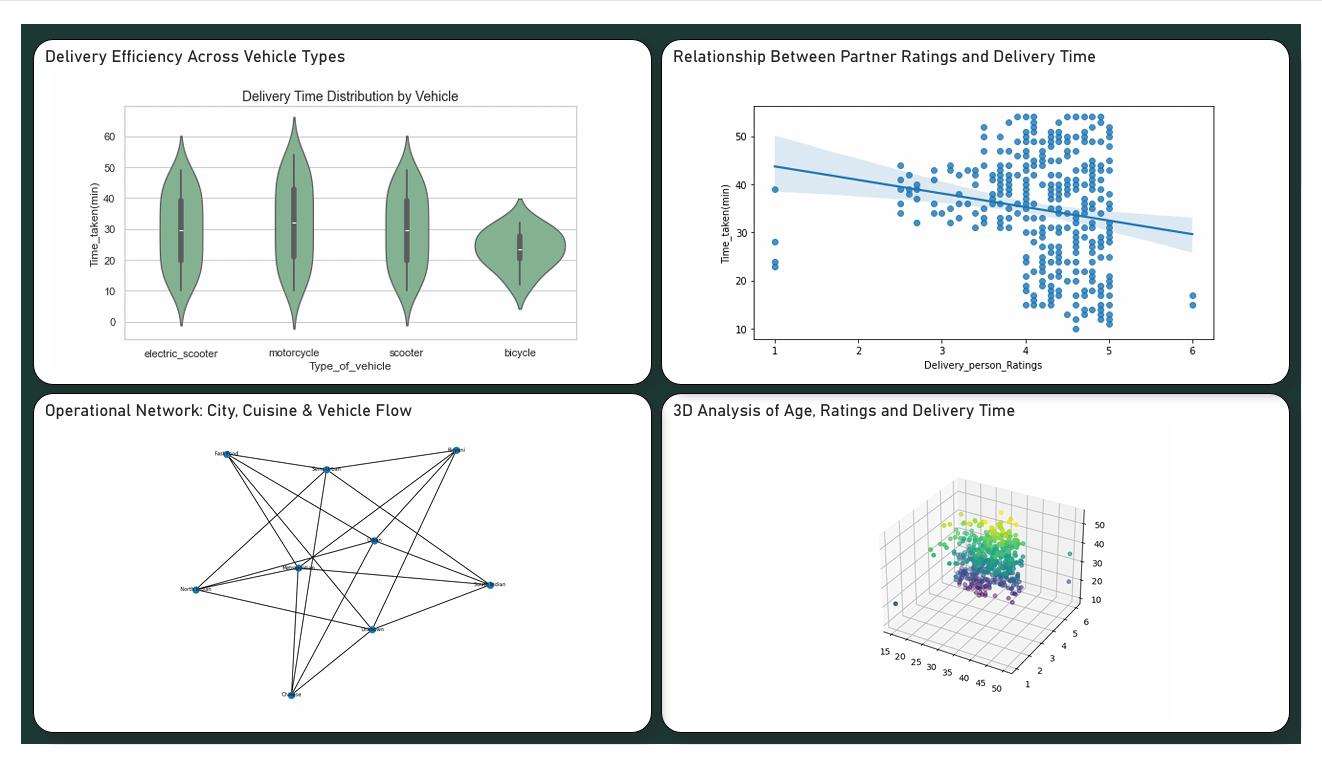

The page's visual inventory and layout, read from the dashboard file:
{"tool":"powerbi","page":{"name":"Advanced Analytics & Modeling","canvas":[1280,720],"ordinal":5},"visuals":[{"type":"pythonVisual","title":"Delivery Efficiency Across Vehicle Types","fields":{"Values":["orders.Time_taken(min)","orders.Type_of_vehicle"]},"box":[11,13.7,618.9,345.8],"z":0},{"type":"pythonVisual","title":"3D Analysis of Age, Ratings and Delivery Time","fields":{"Values":["orders.Delivery_person_Age","orders.Delivery_person_Ratings","orders.Time_taken(min)"]},"box":[639.5,367.8,628.5,340.3],"z":1000},{"type":"pythonVisual","title":"Relationship Between Partner Ratings and Delivery Time","fields":{"Values":["orders.Delivery_person_Ratings","orders.Time_taken(min)"]},"box":[639.5,13.7,628.5,345.8],"z":2000},{"type":"pythonVisual","title":"Operational Network: City, Cuisine & Vehicle Flow","fields":{"Values":["orders.City","orders.Cuisine_Type","orders.Type_of_vehicle"]},"box":[11,367.8,618.9,340.3],"z":3000}]}

Visuals, with their boxes on the page's 1280x720 design canvas (x1, y1, x2, y2). These are canvas units, not pixel positions in the 1322x769 screenshot, which may show the page scaled, cropped or inside an application window:
"Delivery Efficiency Across Vehicle Types" pythonVisual: bbox=(11, 14, 630, 360)
"3D Analysis of Age, Ratings and Delivery Time" pythonVisual: bbox=(640, 368, 1268, 708)
"Relationship Between Partner Ratings and Delivery Time" pythonVisual: bbox=(640, 14, 1268, 360)
"Operational Network: City, Cuisine & Vehicle Flow" pythonVisual: bbox=(11, 368, 630, 708)
